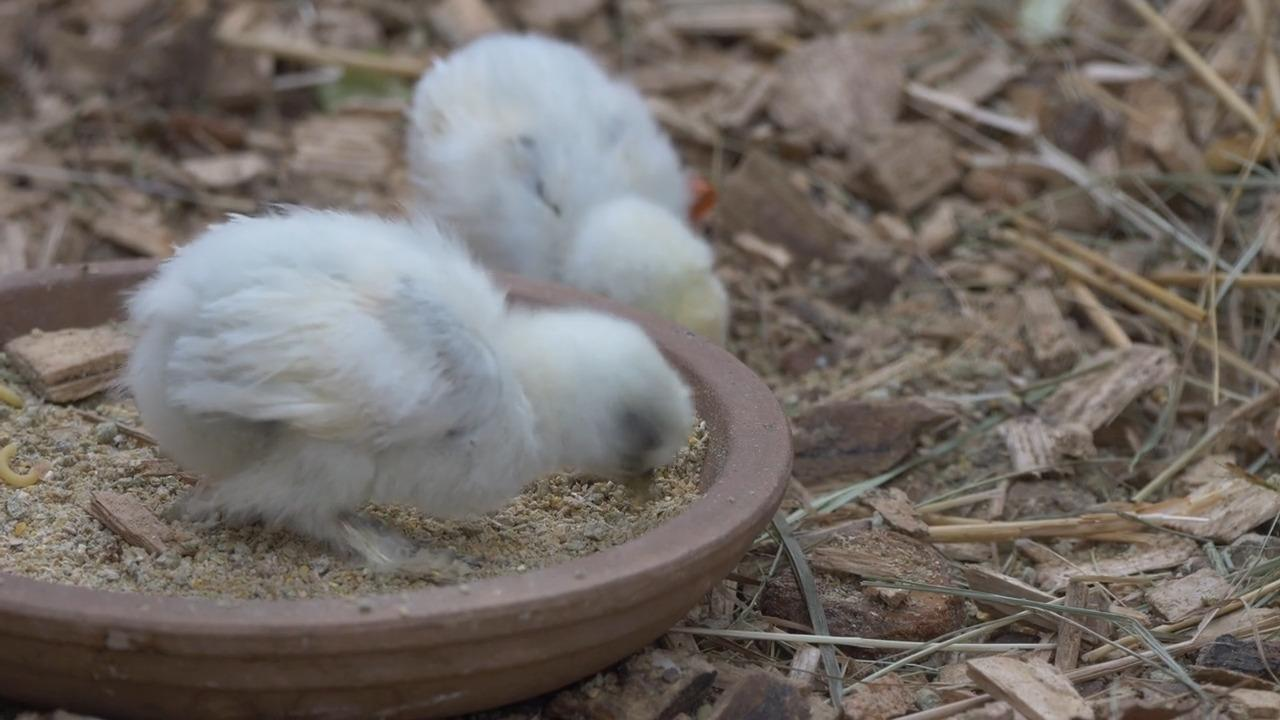Normal: (135, 215, 702, 550)
